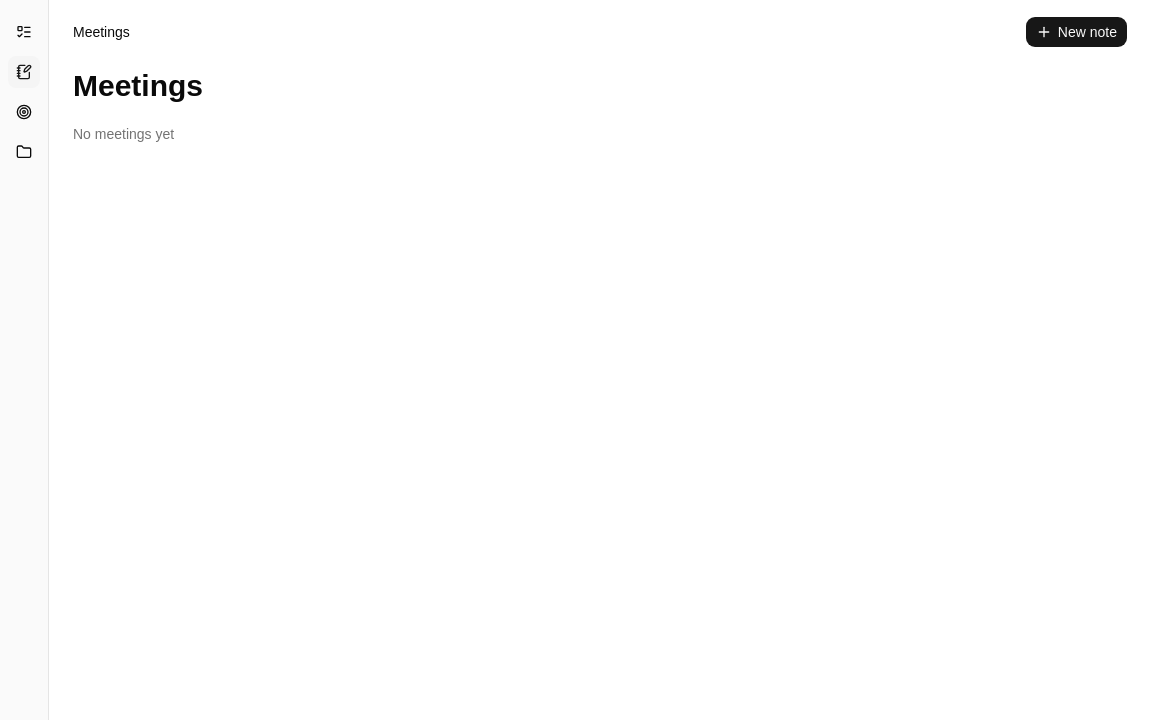
Scenario: The sheet › shows the name, role, project, toolbar, description, Delete, and Save, in that order, and Close last
Click the 3rd link named "Initiatives". click: (24, 112)
box: [8, 96, 40, 128]
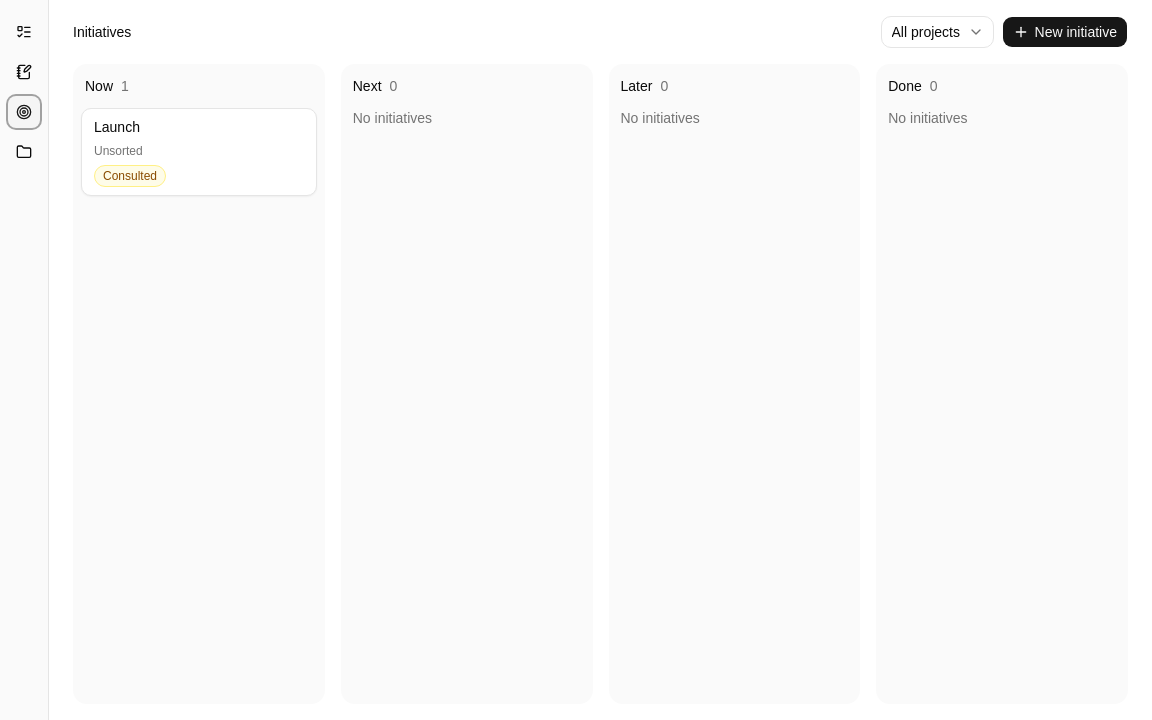
Now the button "New initiative" is shown, box [1002, 16, 1128, 48]
Click the button "Launch Unsorted Consulted". click: (199, 152)
box: [81, 108, 317, 196]
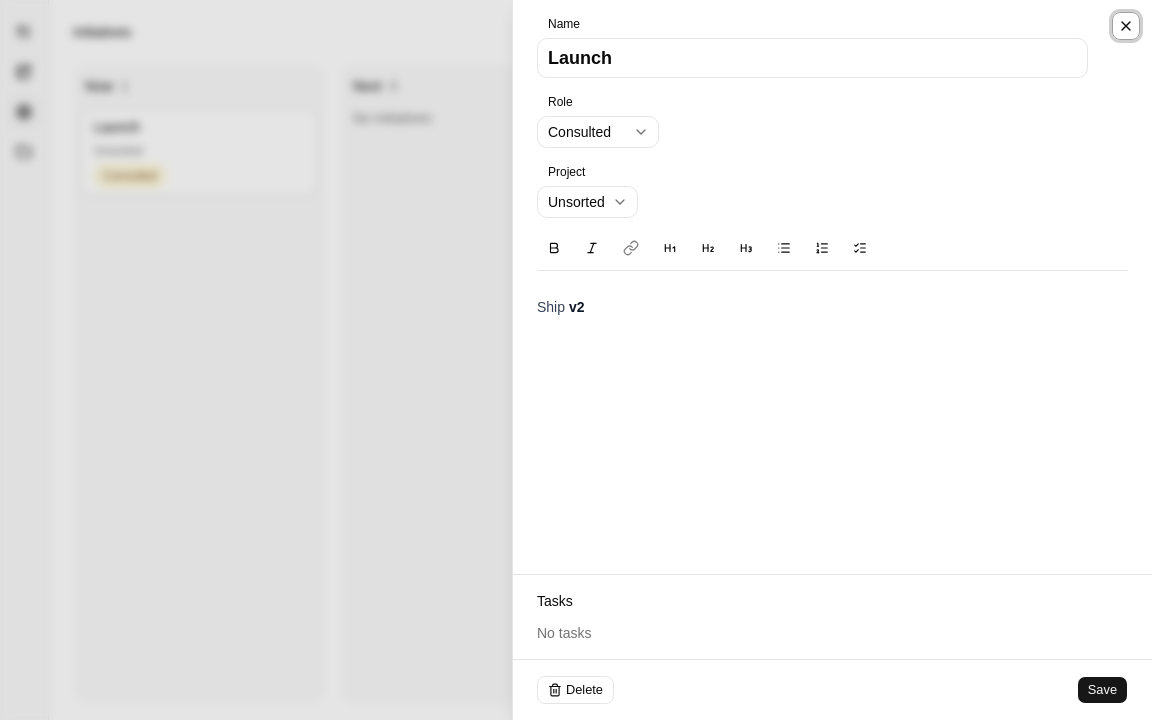
Now the field named "Initiative name" is enabled, box [537, 38, 1088, 78]
Now the field named "Initiative name" holds "Launch", box [537, 38, 1088, 78]
Now the dropdown named "RACI role" shows "Consulted", box [537, 116, 659, 148]
